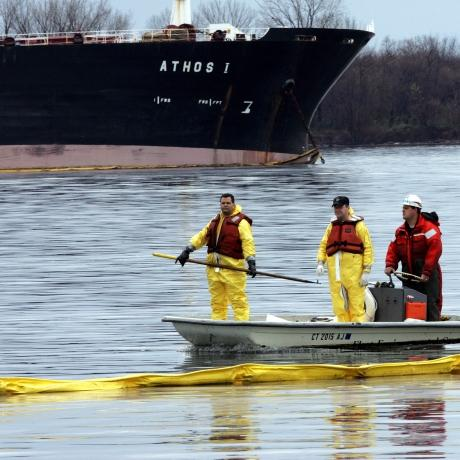victim: (178, 186, 262, 330), (380, 191, 448, 332), (314, 192, 376, 330)
